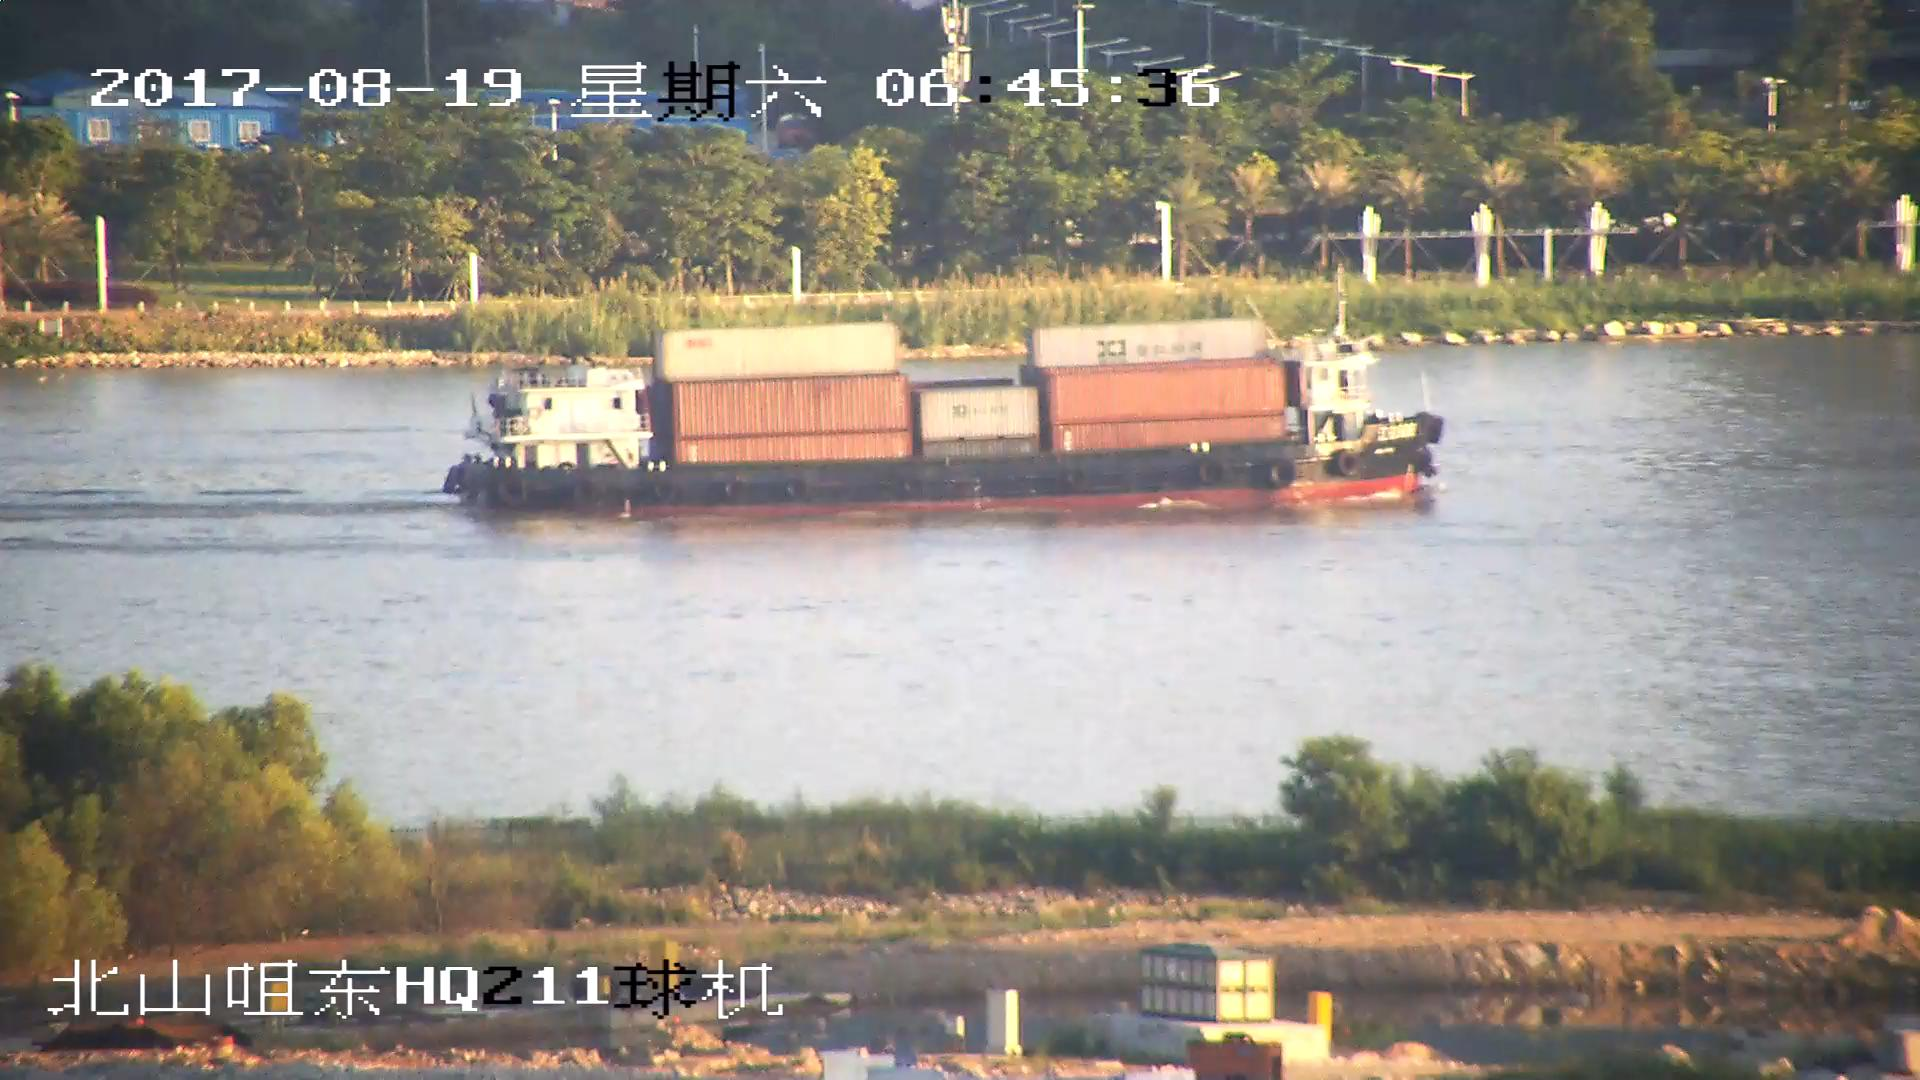container ship: (450, 307, 1448, 520)
